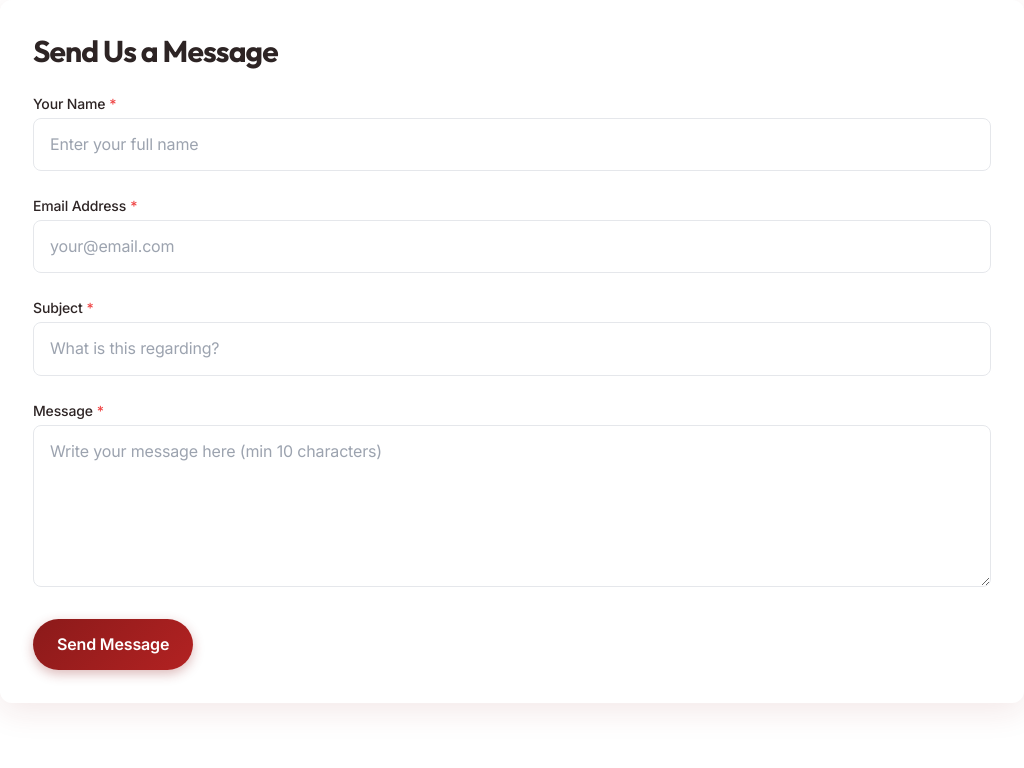
ContactForm › Inline validation on blur › shows error for invalid email on blur
Type "invalid-email" into the field labelled "Email Address*" at (512, 247), box [33, 220, 991, 273]
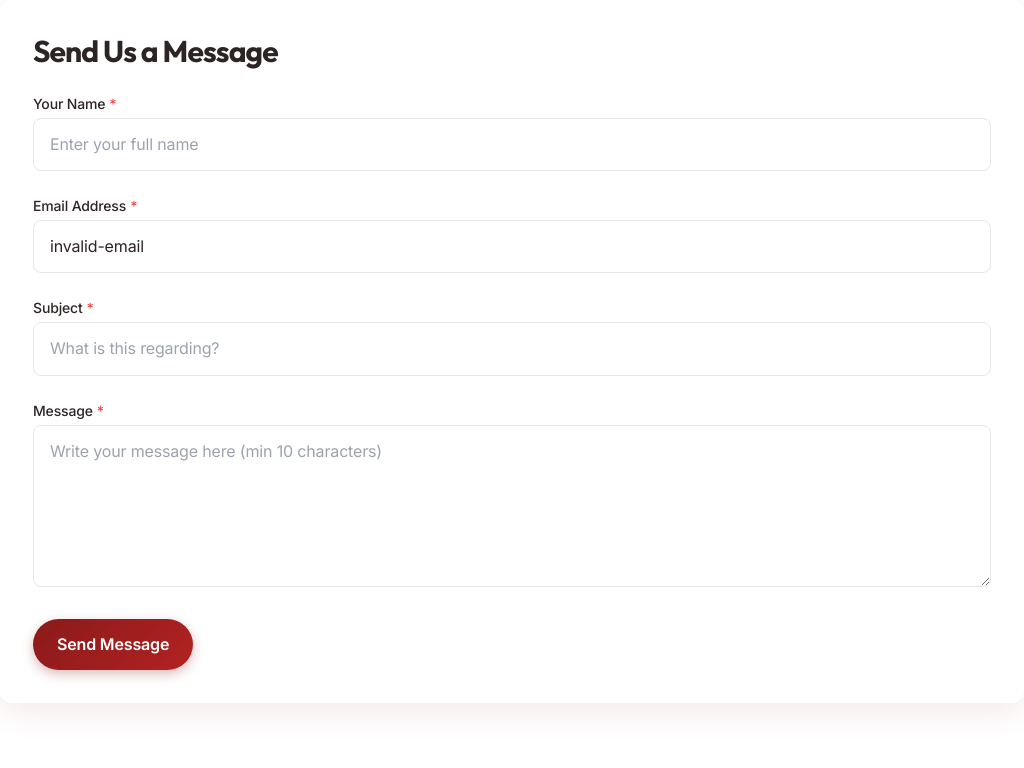
Leave the field labelled "Email Address*", box [33, 220, 991, 273]
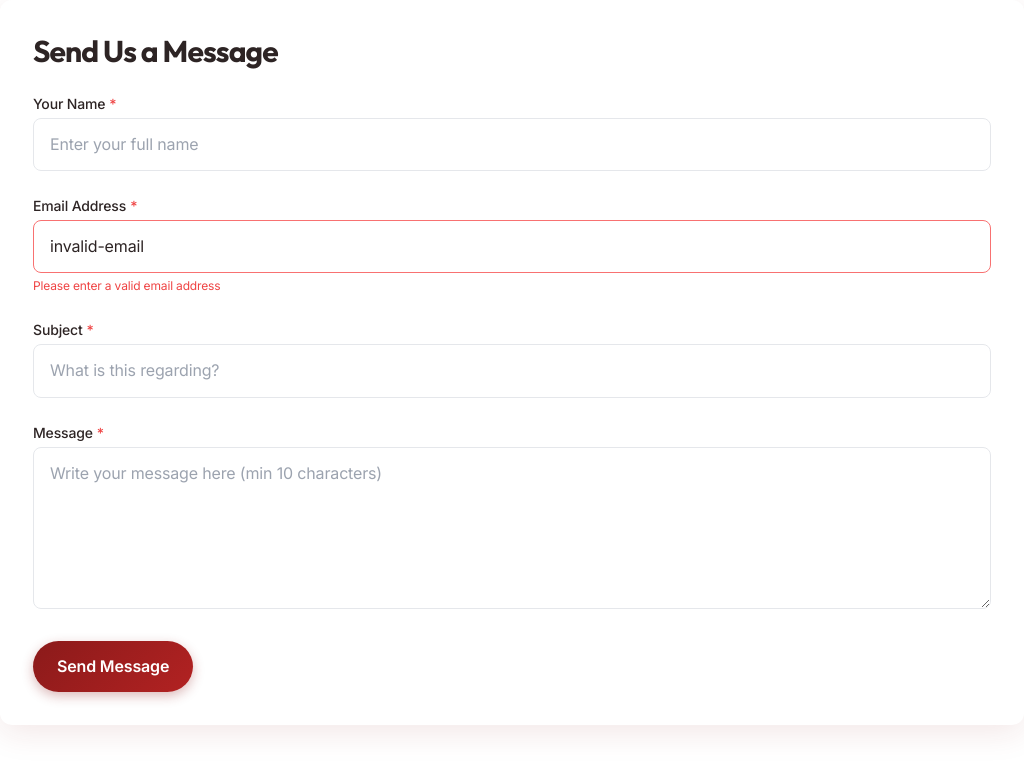
Expected: the text "Please enter a valid email address" is shown, [33, 278, 220, 293]
